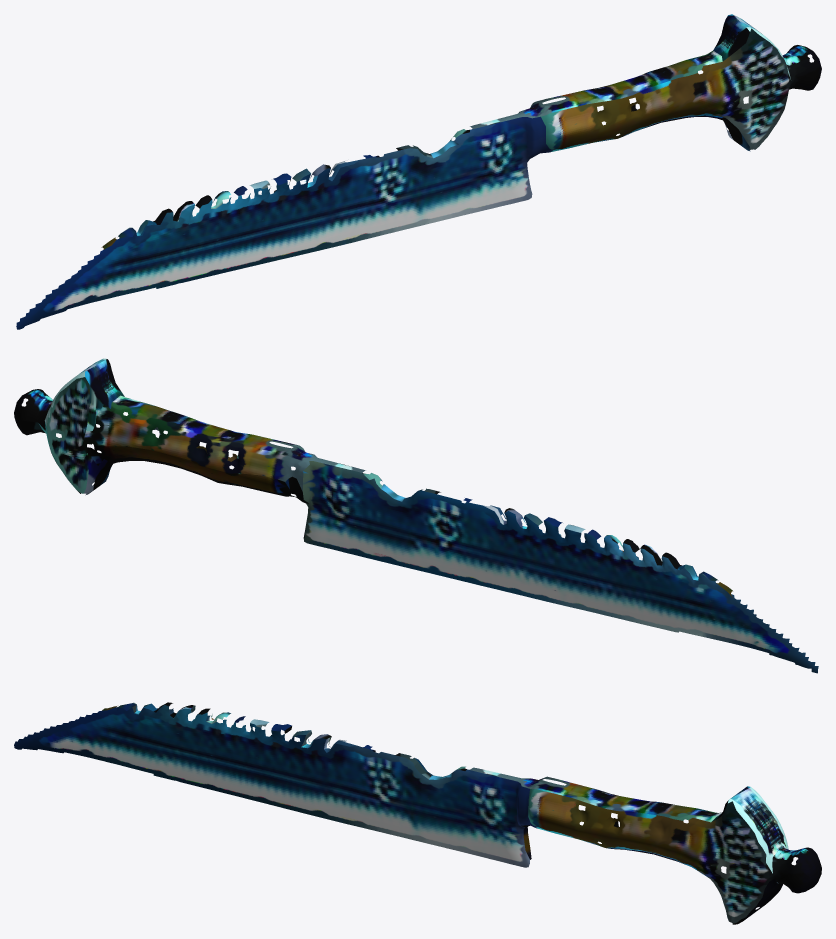
Rendered from SkinningKnife.glb.
3 renders of one model, top to bottom at view 1: azimuth 30°, elevation 25°; view 2: azimuth 150°, elevation 25°; view 3: azimuth 330°, elevation 25°, orthographic.
Parts seen in each view (by area): view 1: temp_mesh.ply; view 2: temp_mesh.ply; view 3: temp_mesh.ply.
Boxes of the visible parts, <box> form: temp_mesh.ply: <box>16,14,821,329</box>; temp_mesh.ply: <box>14,358,818,673</box>; temp_mesh.ply: <box>14,702,821,924</box>.
Bounding box in the file's own units: 0.22 × 0.0343 × 0.0117.
1 material, 1 textured.
